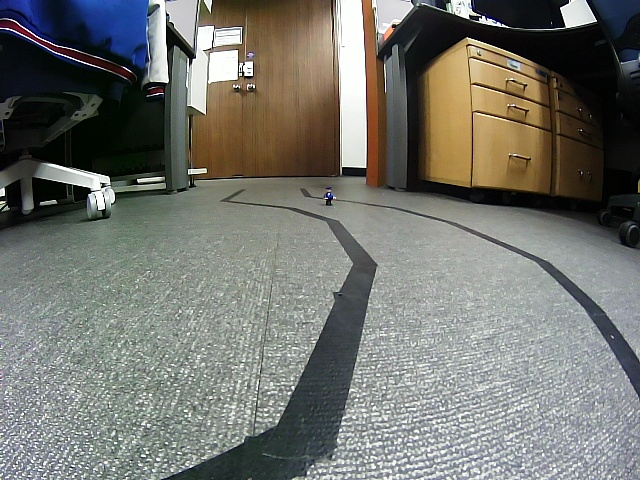person: (324, 187, 336, 206)
